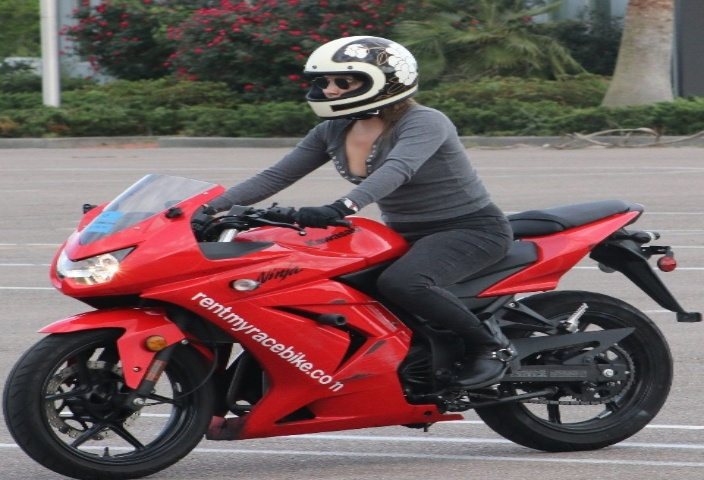motorcycle: (11, 31, 698, 479)
